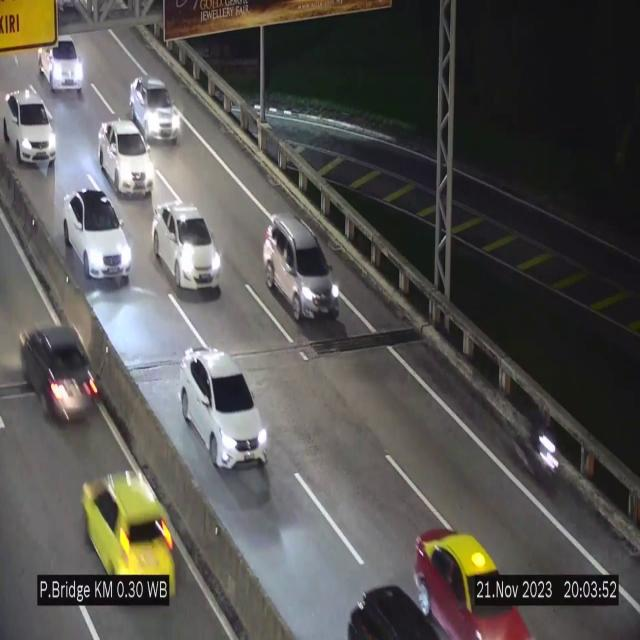Car: (412, 506, 537, 640), (77, 461, 182, 615), (12, 306, 108, 441), (180, 348, 268, 468), (264, 214, 340, 323), (338, 564, 440, 640), (153, 201, 223, 293), (63, 189, 132, 280), (98, 119, 154, 197), (3, 89, 56, 165), (129, 76, 180, 142), (36, 40, 86, 96)
Motorcycle: (518, 393, 560, 496)
